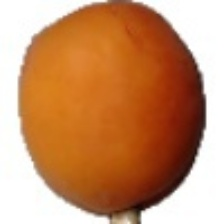apricot: (45, 38, 212, 223)
